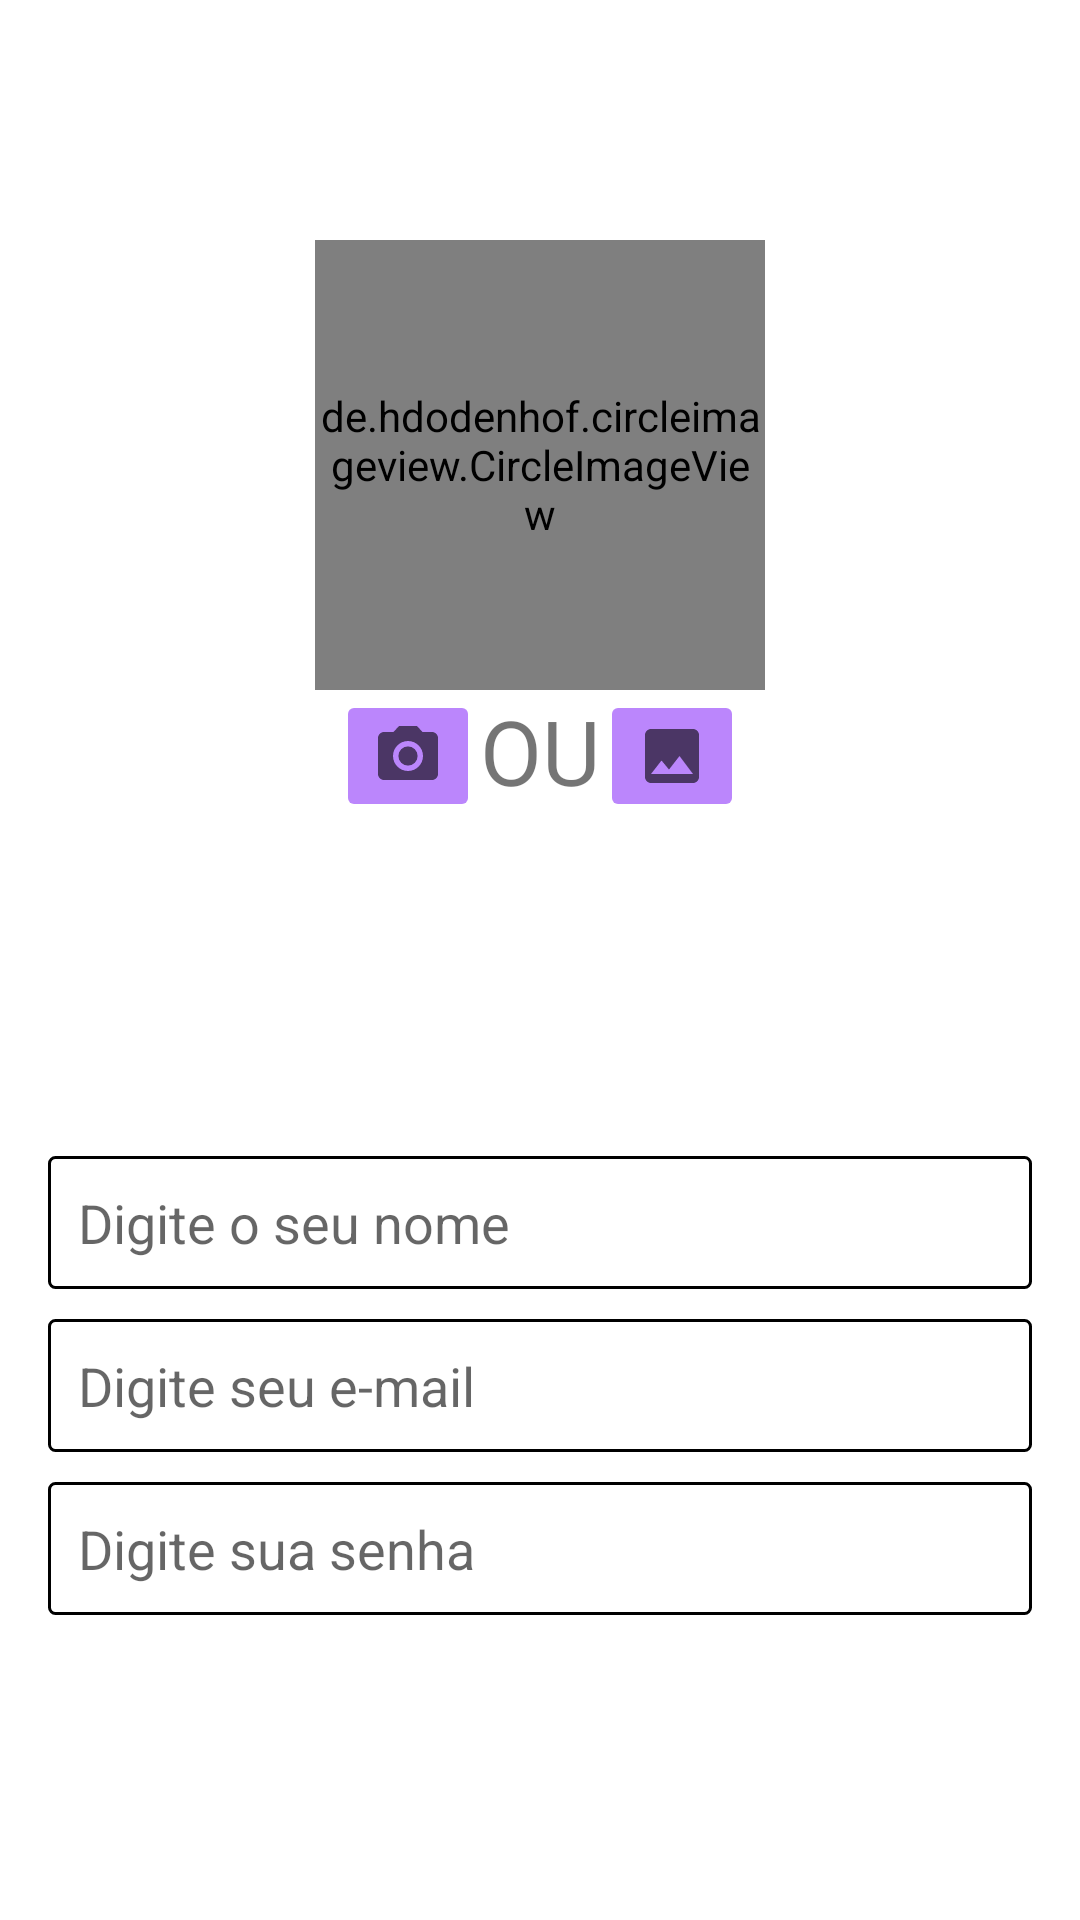

Locate icon controls on the screen. Image size 1080×1920, boxes as bbox=[x1, y1, x2, y2].
camera cinza: bbox=[348, 708, 468, 804]
photo: bbox=[612, 708, 732, 804]
